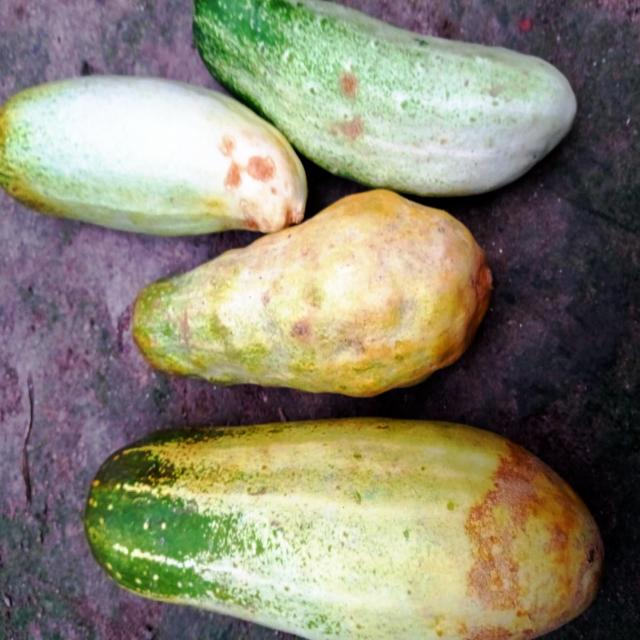Belly-Rot: (463, 434, 590, 640), (214, 123, 299, 236), (322, 66, 369, 146), (287, 311, 315, 348)
